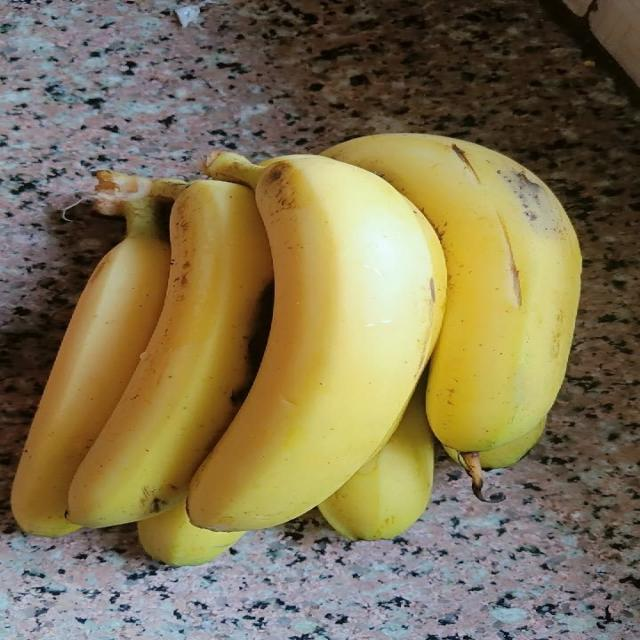unpeal banana: (188, 153, 442, 530), (324, 134, 581, 471), (69, 180, 272, 526), (12, 197, 169, 536), (320, 382, 433, 540), (137, 501, 244, 566), (479, 417, 546, 470)
